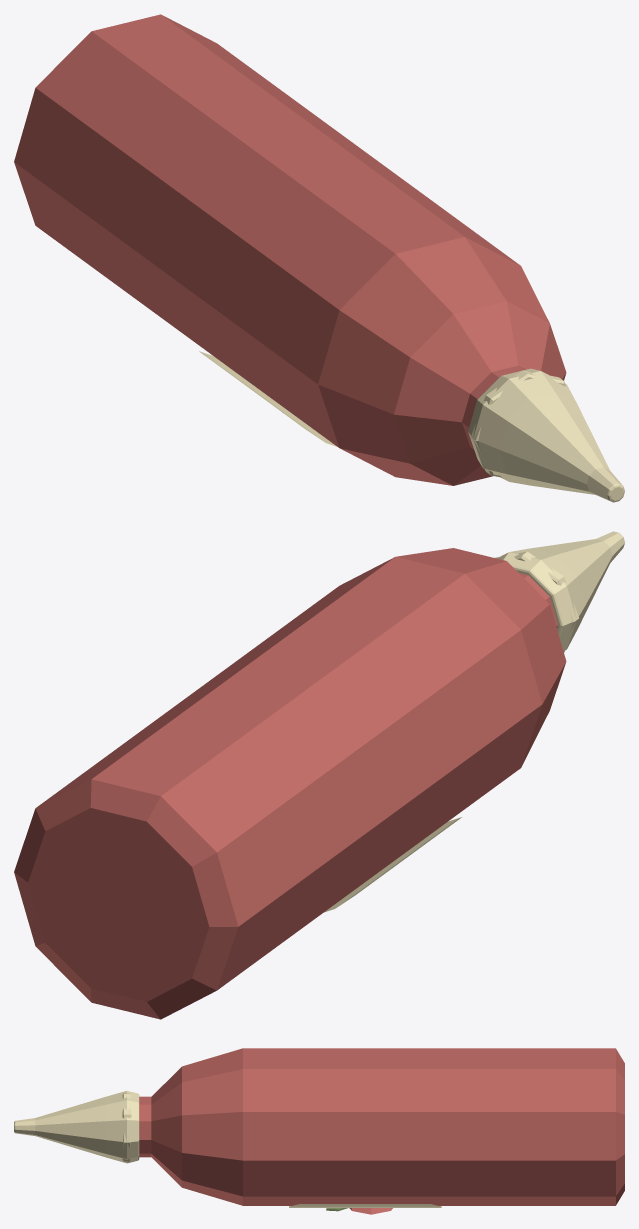
Rendered from ketchup.glb.
The picture shows the model from 3 angles, top to bottom: view 1: azimuth 30°, elevation 25°; view 2: azimuth 150°, elevation 25°; view 3: azimuth 270°, elevation 25°; orthographic projection. The views are drawn at different scales.
Parts seen in each view (by area): view 1: ketchup; view 2: ketchup; view 3: ketchup.
Boxes of the visible parts, x1,y1,x2,y2 form: ketchup: [14, 14, 624, 502]; ketchup: [14, 531, 624, 1019]; ketchup: [14, 1048, 624, 1214].
Bounding box in the file's own units: 0.052 × 0.0534 × 0.2.
